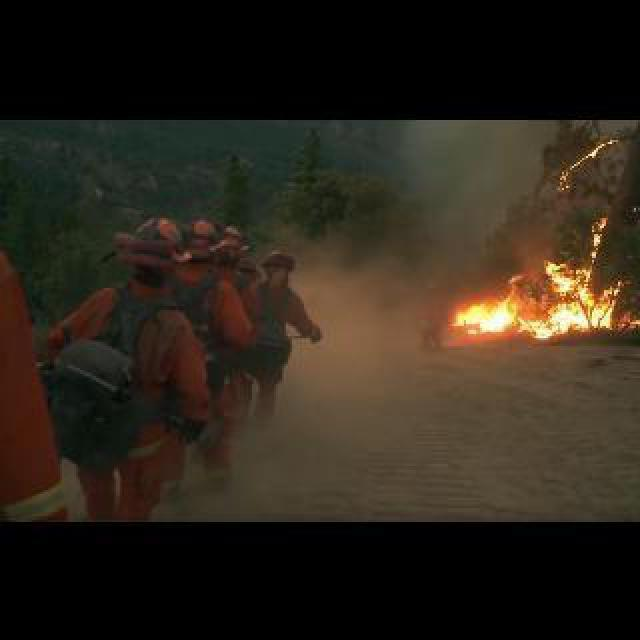Fire: (446, 204, 638, 346), (558, 132, 620, 186)
